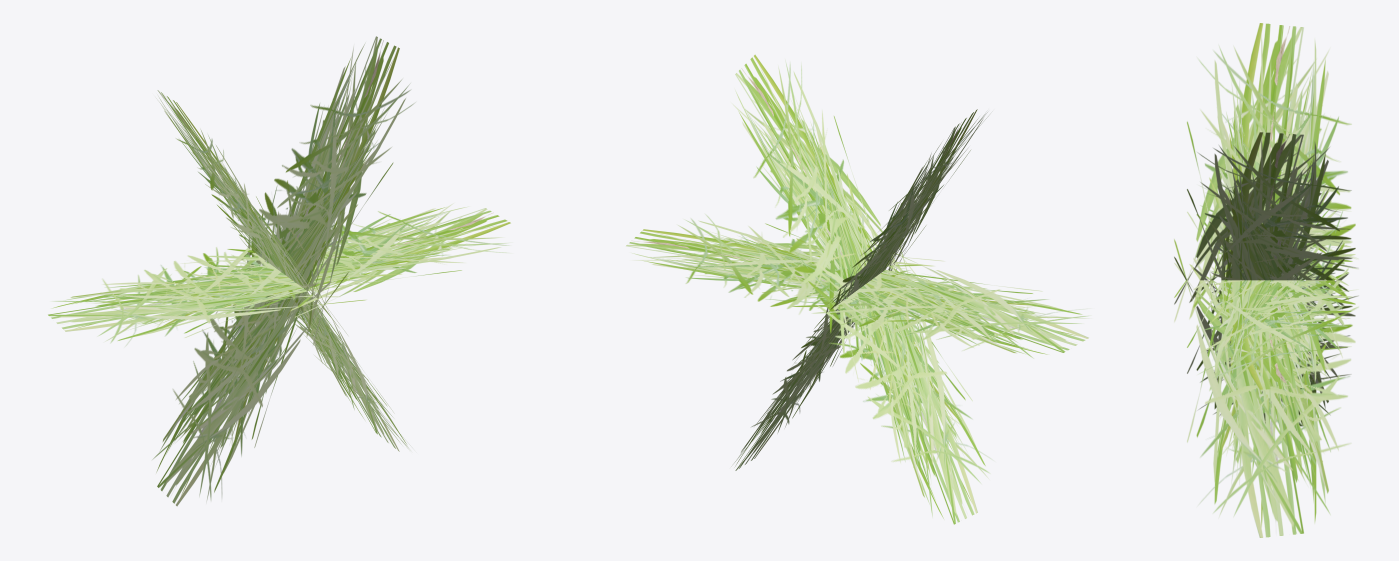
Rendered from GrassCard_Lawn.glb.
The picture shows the model from 3 angles, left to right: view 1: azimuth 30°, elevation 25°; view 2: azimuth 150°, elevation 25°; view 3: azimuth 270°, elevation 25°; orthographic projection.
Visible parts, largest first — view 1: GrassCard_Lawn; view 2: GrassCard_Lawn; view 3: GrassCard_Lawn.
Boxes of the visible parts, x1,y1,x2,y2 form: GrassCard_Lawn: [48, 36, 510, 506]; GrassCard_Lawn: [626, 54, 1089, 524]; GrassCard_Lawn: [1174, 23, 1358, 537].
Size of the model in its own units: 0.15 by 0.1299 by 0.06.
Materials: 1 (1 with a texture image).
